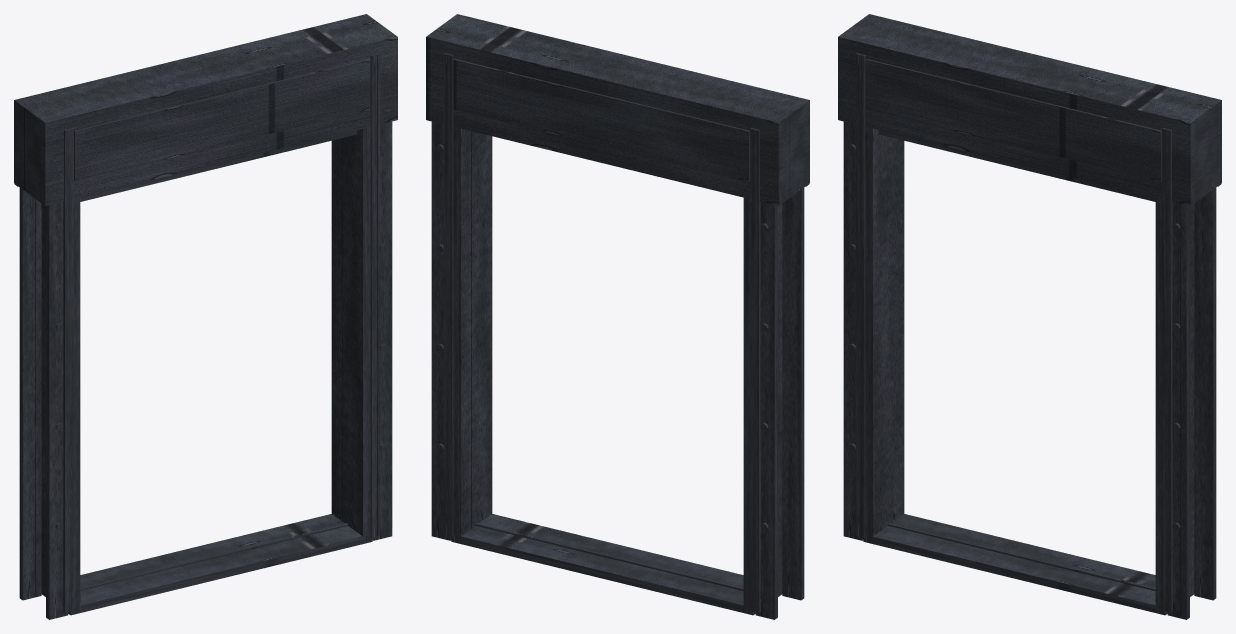
File: door_frame.glb
3 views of the same model, side by side, from view 1: azimuth 30°, elevation 25°; view 2: azimuth 150°, elevation 25°; view 3: azimuth 330°, elevation 25° (orthographic).
Visible parts, largest first — view 1: door_frame; view 2: door_frame; view 3: door_frame.
Part boxes in pixels (x1,y1,x2,y2): door_frame: (14,14,397,619); door_frame: (426,14,809,619); door_frame: (838,14,1221,619).
Bounding box in the file's own units: 2.22 × 3 × 0.365.
Materials: 2 (2 with a texture image).
